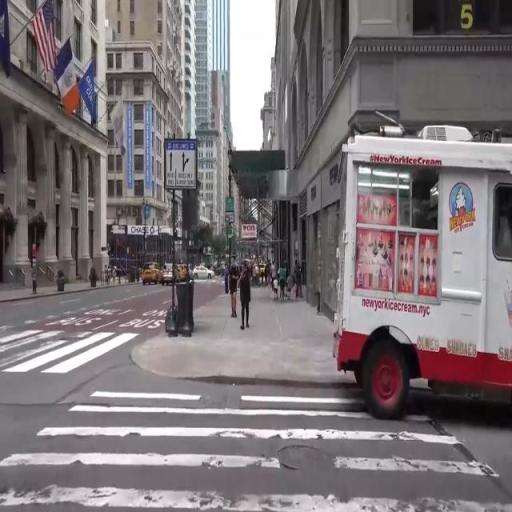person: (240, 259, 252, 332), (231, 254, 240, 321), (279, 262, 288, 303), (296, 258, 304, 299), (274, 277, 280, 305), (272, 259, 278, 285), (289, 275, 294, 304), (256, 262, 260, 290)
